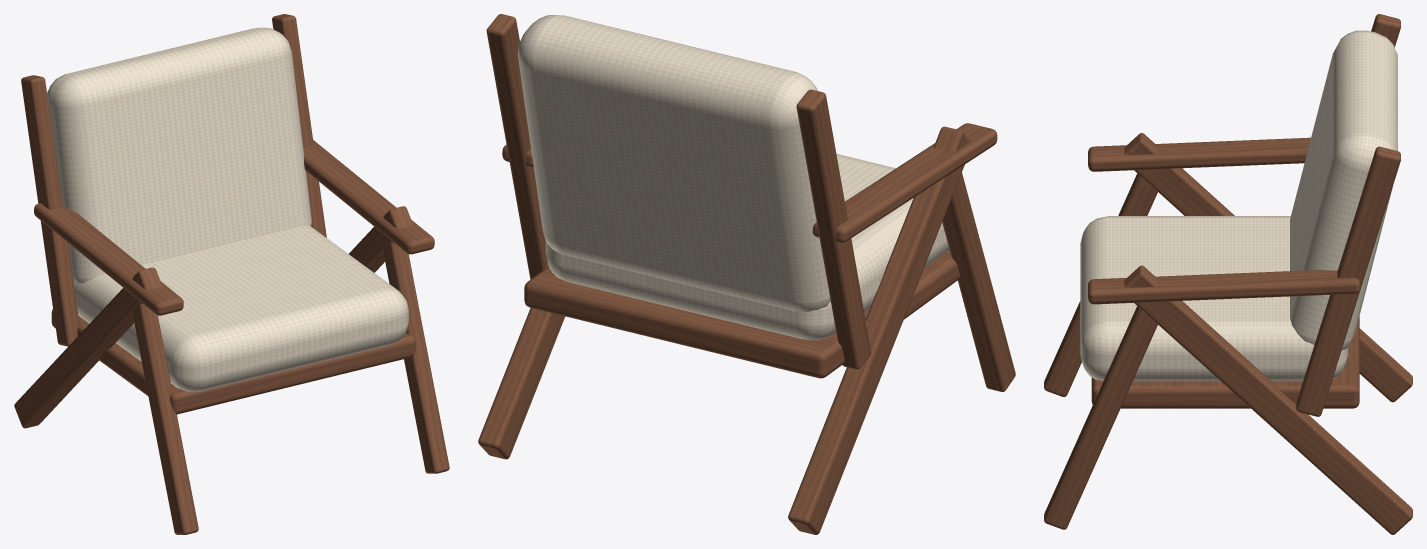
Rendered from reference.glb.
The picture shows the model from 3 angles, left to right: view 1: azimuth 30°, elevation 25°; view 2: azimuth 150°, elevation 25°; view 3: azimuth 270°, elevation 25°; orthographic projection. The views are drawn at different scales.
Visible parts, largest first — view 1: Sloped back, Seat cushion, Front leg (×2), Floating arm (×2), Back stile (×2), Rear diagonal (×2), Seat frame; view 2: Sloped back, Rear diagonal (×2), Back stile (×2), Seat frame, Seat cushion, Front leg, Floating arm; view 3: Seat cushion, Sloped back, Rear diagonal (×2), Floating arm (×2), Front leg (×2), Back stile (×2), Seat frame.
Part boxes in pixels (left/top/right/bottom): Sloped back: left=47, top=27, right=311, bottom=283; Seat cushion: left=73, top=225, right=408, bottom=391; Front leg (×2): left=132, top=243, right=449, bottom=534; Floating arm (×2): left=34, top=140, right=434, bottom=315; Back stile (×2): left=21, top=14, right=326, bottom=346; Rear diagonal (×2): left=14, top=206, right=412, bottom=428; Seat frame: left=51, top=309, right=415, bottom=414; Sloped back: left=517, top=15, right=830, bottom=311; Rear diagonal (×2): left=478, top=126, right=970, bottom=534; Back stile (×2): left=486, top=14, right=871, bottom=369; Seat frame: left=524, top=250, right=960, bottom=378; Seat cushion: left=545, top=153, right=949, bottom=340; Front leg: left=942, top=172, right=1015, bottom=391; Floating arm: left=812, top=123, right=997, bottom=242; Seat cushion: left=1080, top=216, right=1348, bottom=381; Sloped back: left=1290, top=30, right=1397, bottom=350; Rear diagonal (×2): left=1124, top=133, right=1412, bottom=534; Floating arm (×2): left=1088, top=137, right=1360, bottom=304; Front leg (×2): left=1044, top=173, right=1157, bottom=529; Back stile (×2): left=1296, top=14, right=1400, bottom=416; Seat frame: left=1091, top=316, right=1359, bottom=408.
Bounding box in the file's own units: 0.729 × 0.8819 × 0.7709.
Materials: 2 (2 with a texture image).
